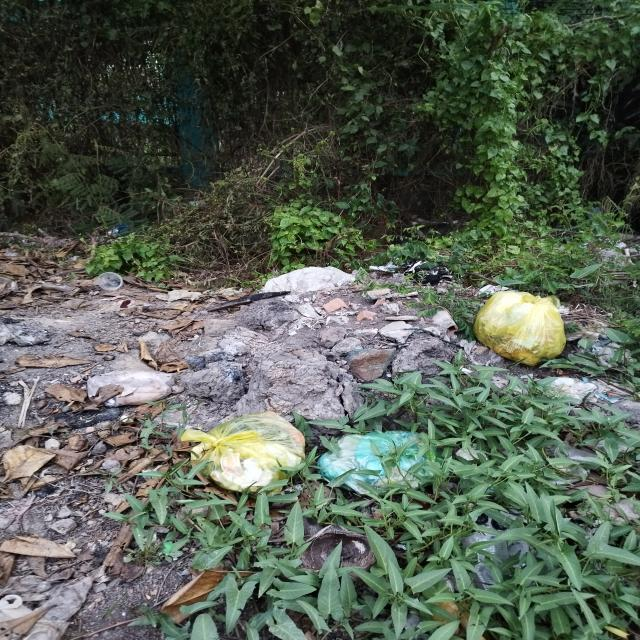plastic glass: (98, 272, 123, 291)
trash bag: (180, 411, 306, 497), (316, 430, 444, 496), (474, 290, 566, 366), (87, 370, 172, 407)
